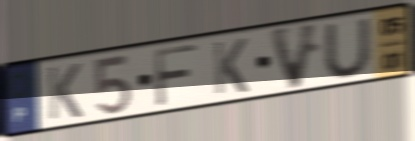5: (92, 51, 135, 116)
F: (152, 42, 201, 110)
K: (45, 61, 85, 123), (211, 36, 251, 97)
U: (321, 15, 374, 80)
V: (267, 20, 322, 93)
